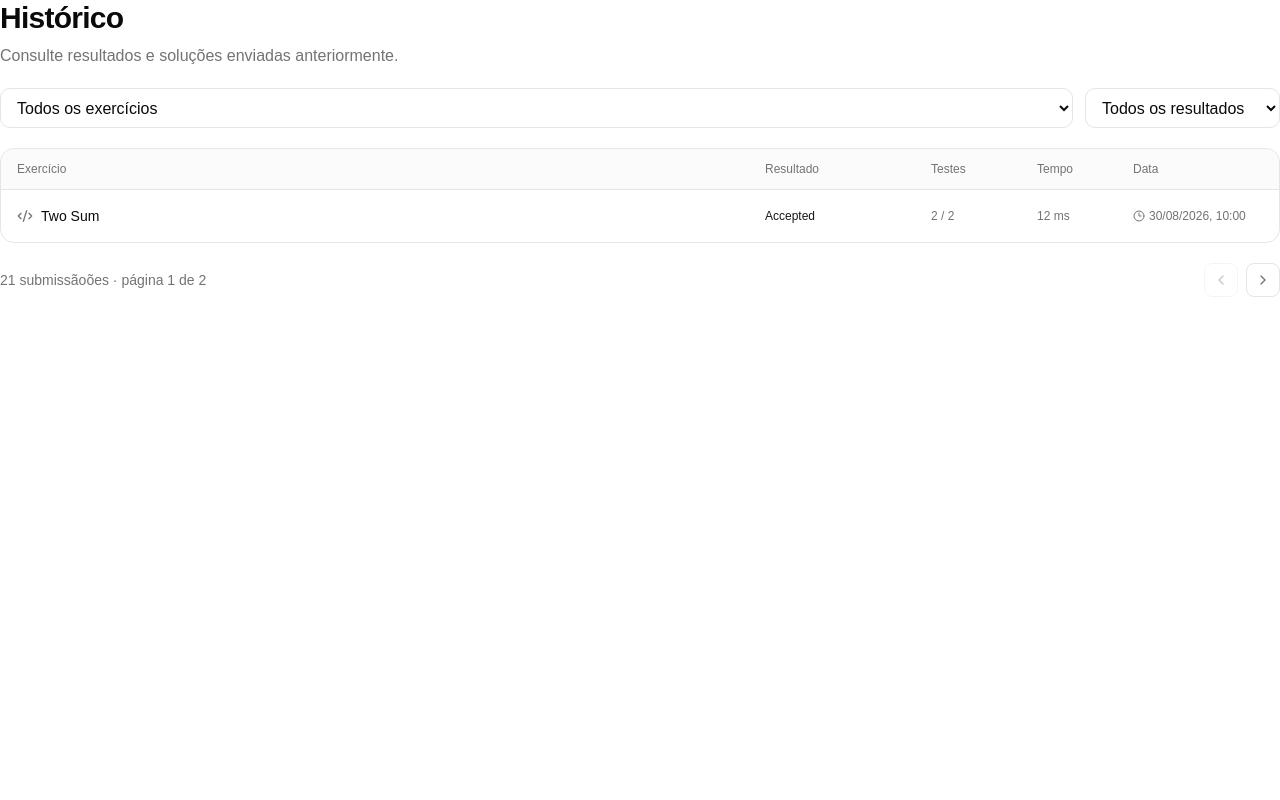
Test: SubmissionHistoryView › loads filters, opens a read-only previous solution and paginates
Expected: the heading "Histórico" is shown, top-left (0, 1), bottom-right (123, 34)
Expected: the text "12 ms" is shown, top-left (1037, 209), bottom-right (1070, 223)
What coordinates should you click on to do the following:
click the button "Two Sum Accepted 2 / 2 12 ms 30/08/2026, 10:00"
I would click on:
 (70, 216)
Its box is top-left (1, 190), bottom-right (1279, 242).
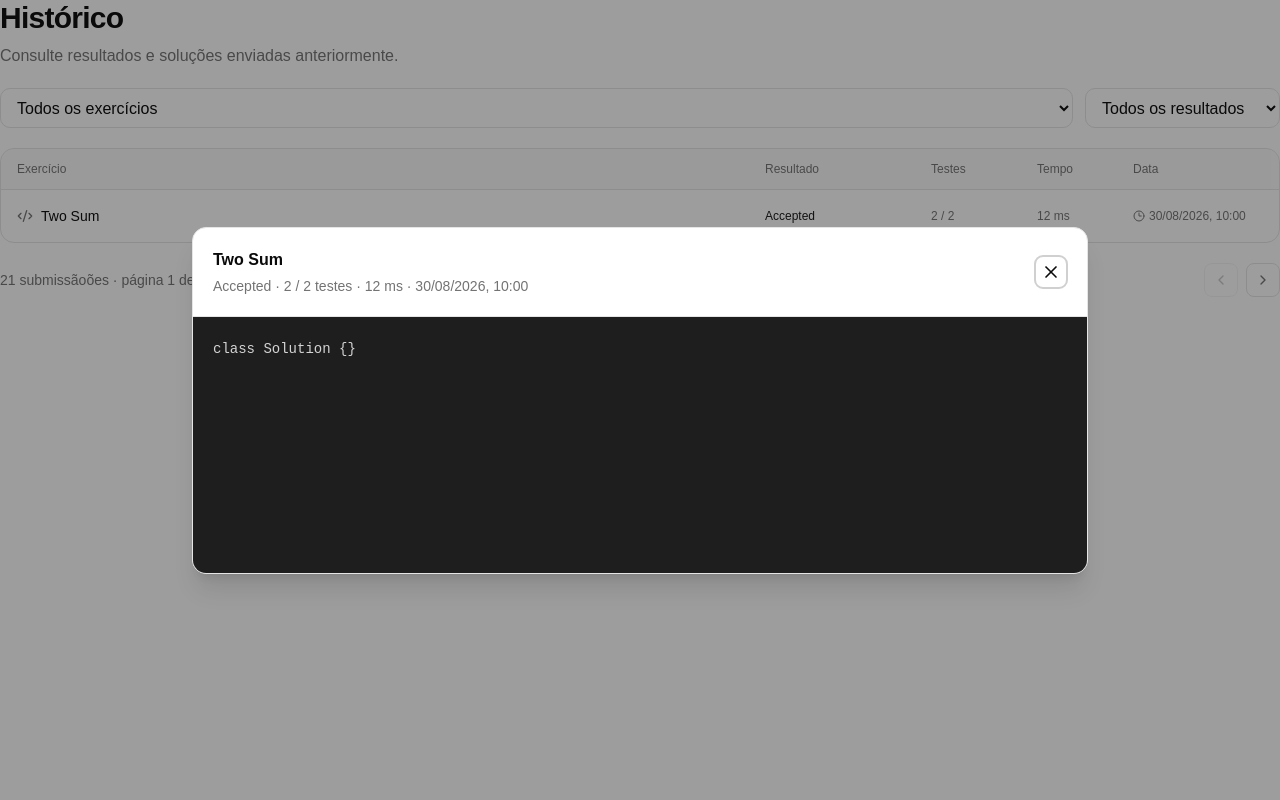
Expected: the text "class Solution {}" is shown, top-left (213, 340), bottom-right (356, 356)
What coordinates should you click on to do the following:
click the button named "Fechar solução"
I would click on:
 (1051, 272)
Its box is top-left (1035, 256), bottom-right (1067, 288).
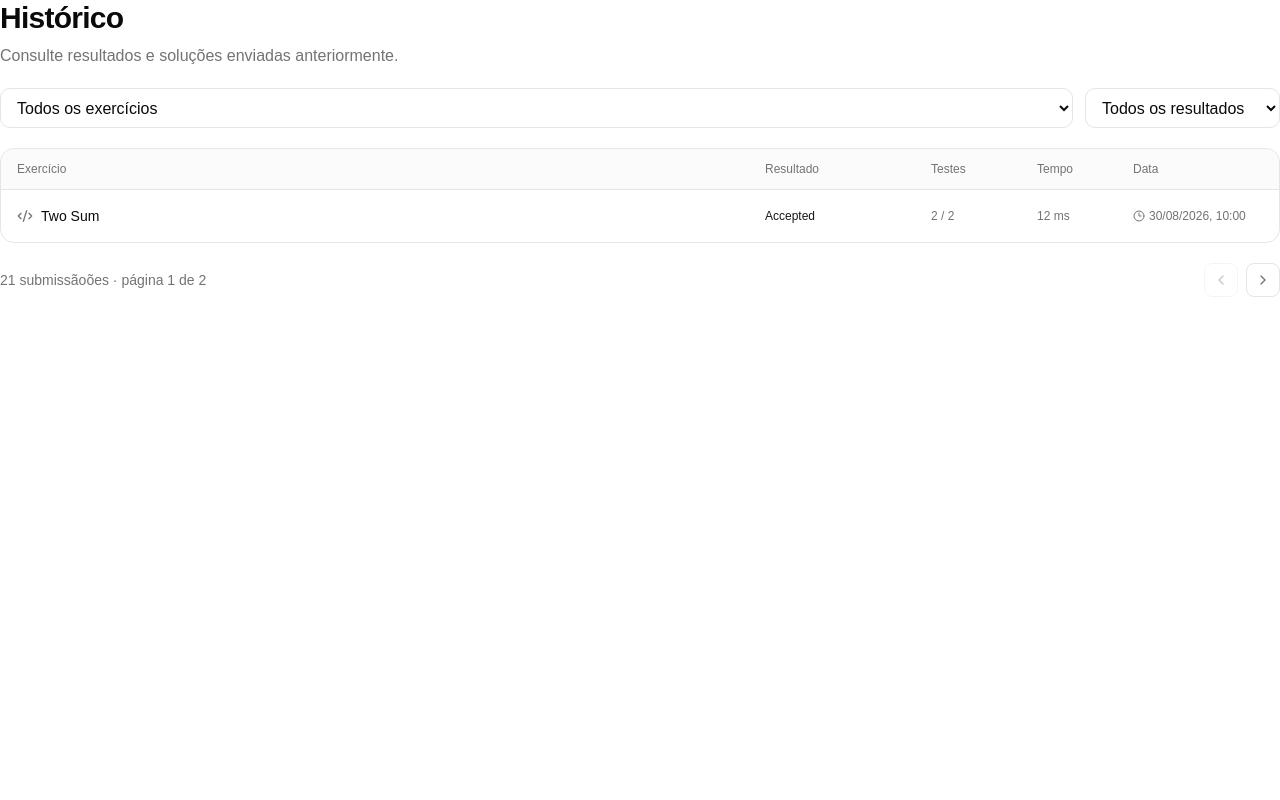
What coordinates should you click on to do the following:
click the button named "Próxima página"
I would click on:
 (1263, 280)
Its box is top-left (1246, 263), bottom-right (1279, 297).
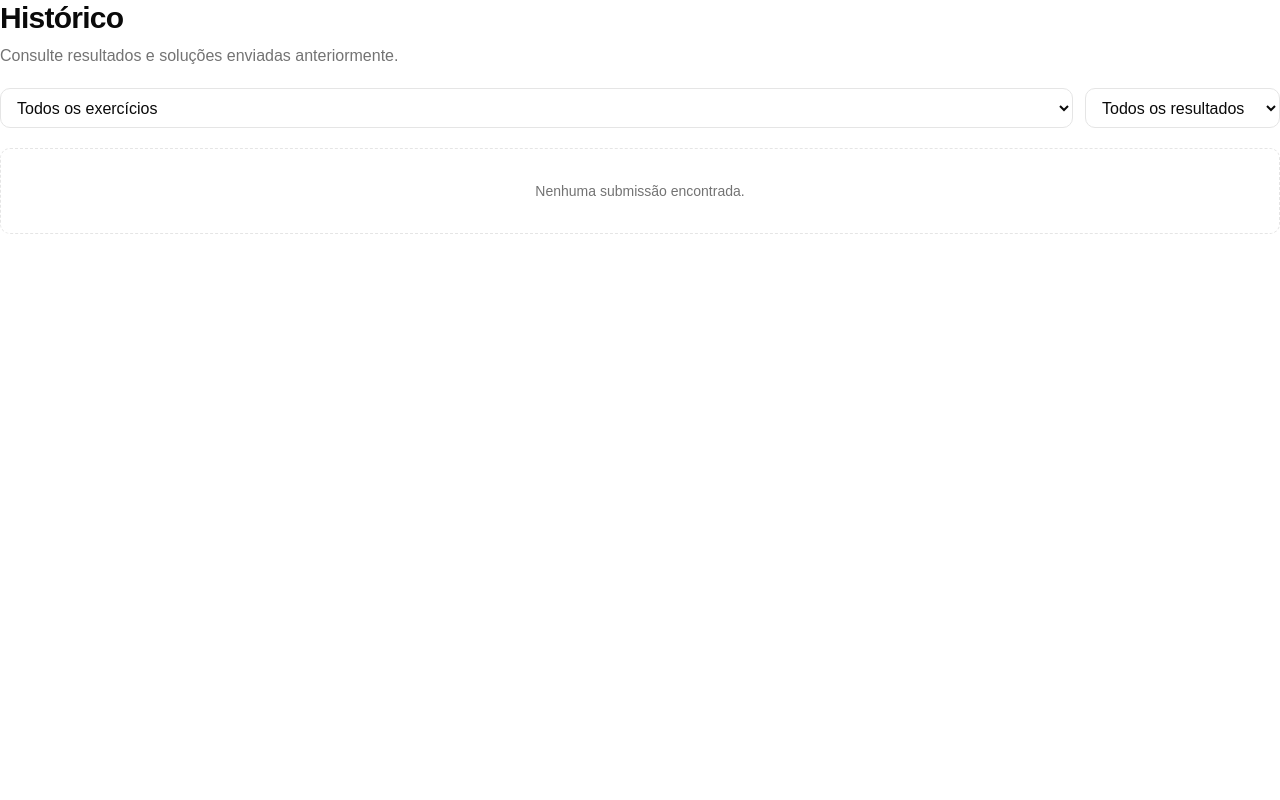
Expected: the text "Nenhuma submissão encontrada." is shown, top-left (0, 148), bottom-right (1279, 234)
